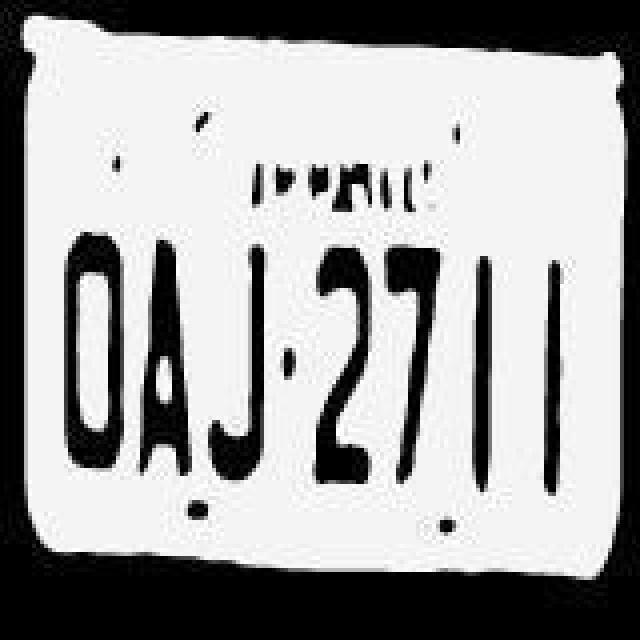1: (524, 246, 580, 498), (454, 246, 506, 506)
2: (300, 240, 380, 504)
7: (374, 240, 442, 504)
A: (134, 226, 202, 486)
J: (206, 224, 282, 488)
O: (60, 224, 132, 480)
